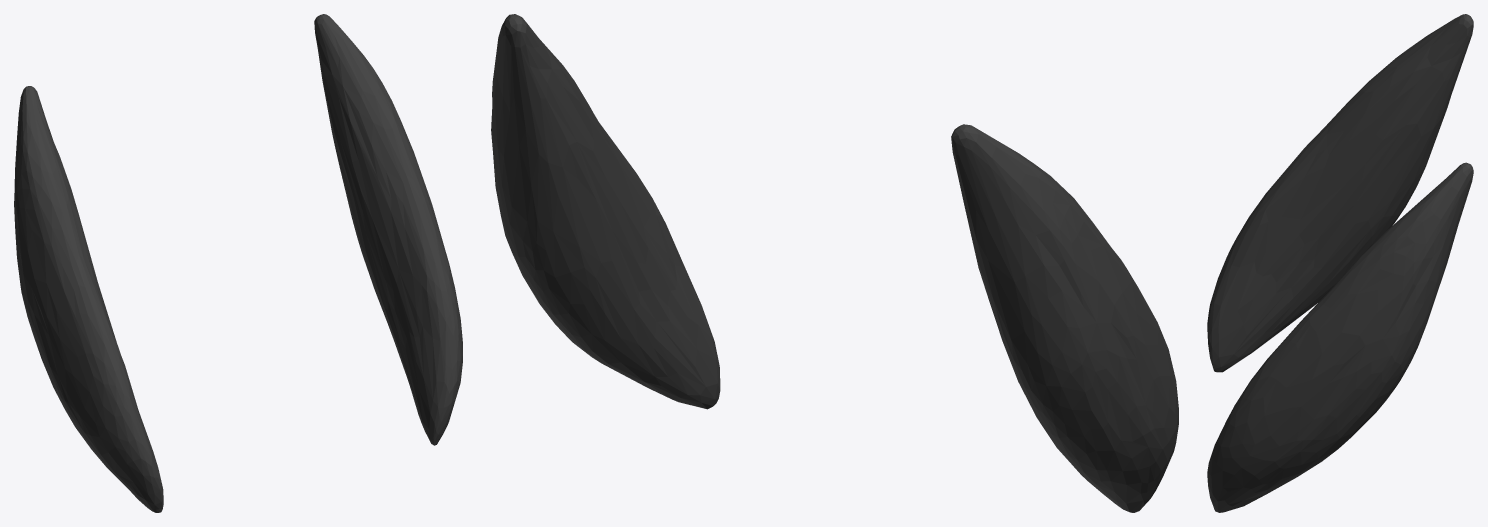
File: m_triceps_brach_access.glb
The picture shows the model from 3 angles, left to right: view 1: azimuth 30°, elevation 25°; view 2: azimuth 150°, elevation 25°; view 3: azimuth 270°, elevation 25°; orthographic projection. The views are drawn at different scales.
Visible parts, largest first — view 1: m_triceps_brach_access; view 2: m_triceps_brach_access; view 3: m_triceps_brach_access.
Boxes of the visible parts, <box> form: m_triceps_brach_access: <box>14,14,462,512</box>; m_triceps_brach_access: <box>491,14,1178,512</box>; m_triceps_brach_access: <box>1207,14,1473,512</box>.
Size of the model in its own units: 0.0043 by 0.0036 by 0.00246.
Materials: 1 (1 with a texture image).
